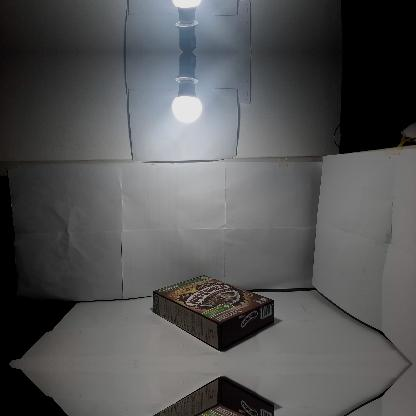Koko-Krunch: (152, 274, 274, 352), (152, 376, 274, 415)
